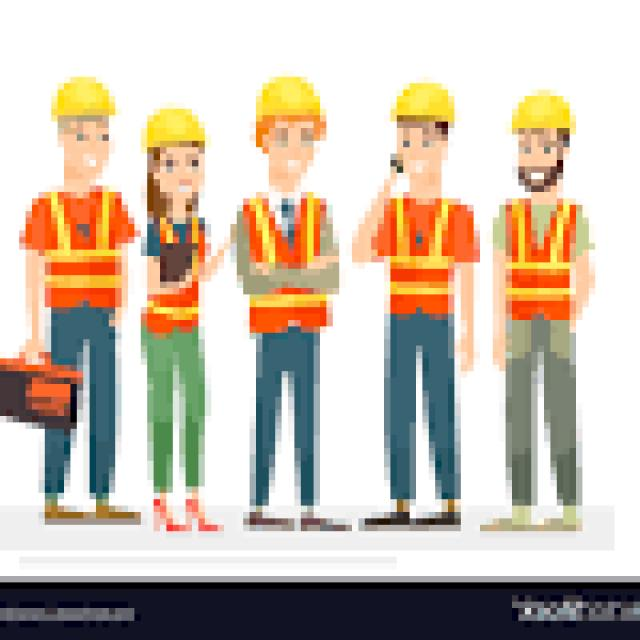Reflective-Jacket: (237, 192, 339, 339), (493, 192, 589, 333), (32, 185, 128, 314), (378, 198, 473, 320)
Safety-Helmet: (250, 70, 332, 141), (384, 70, 461, 134), (134, 96, 212, 154), (45, 70, 122, 128), (506, 83, 582, 141)
